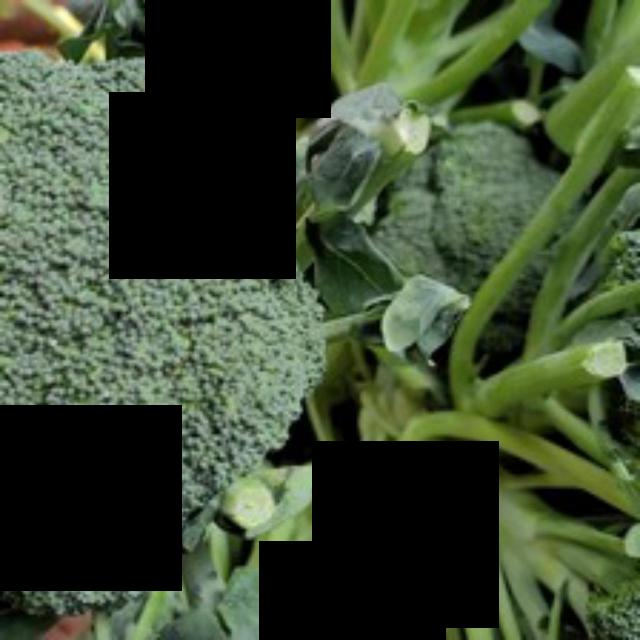broccoli: (0, 34, 326, 637)
